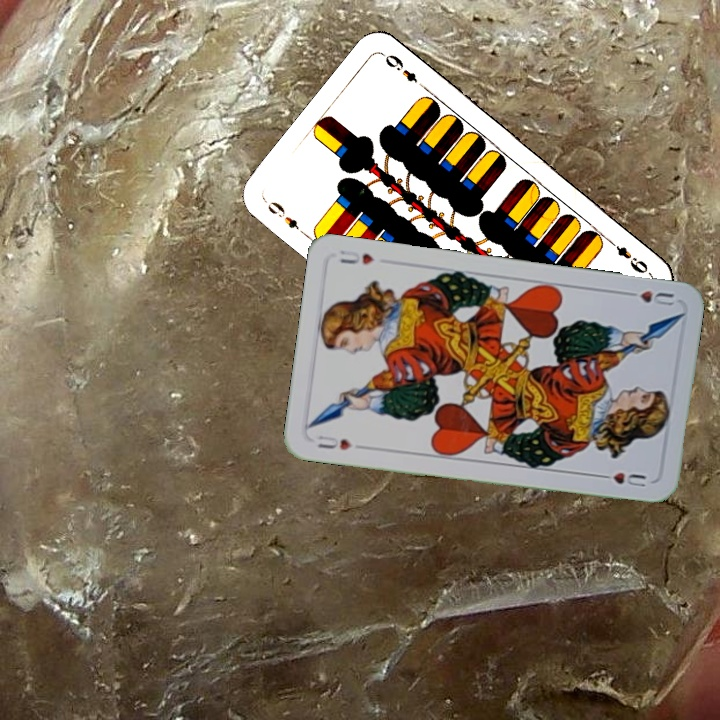E9: (261, 196, 310, 240), (603, 234, 653, 277)
HU: (620, 286, 677, 309), (313, 431, 354, 453)
